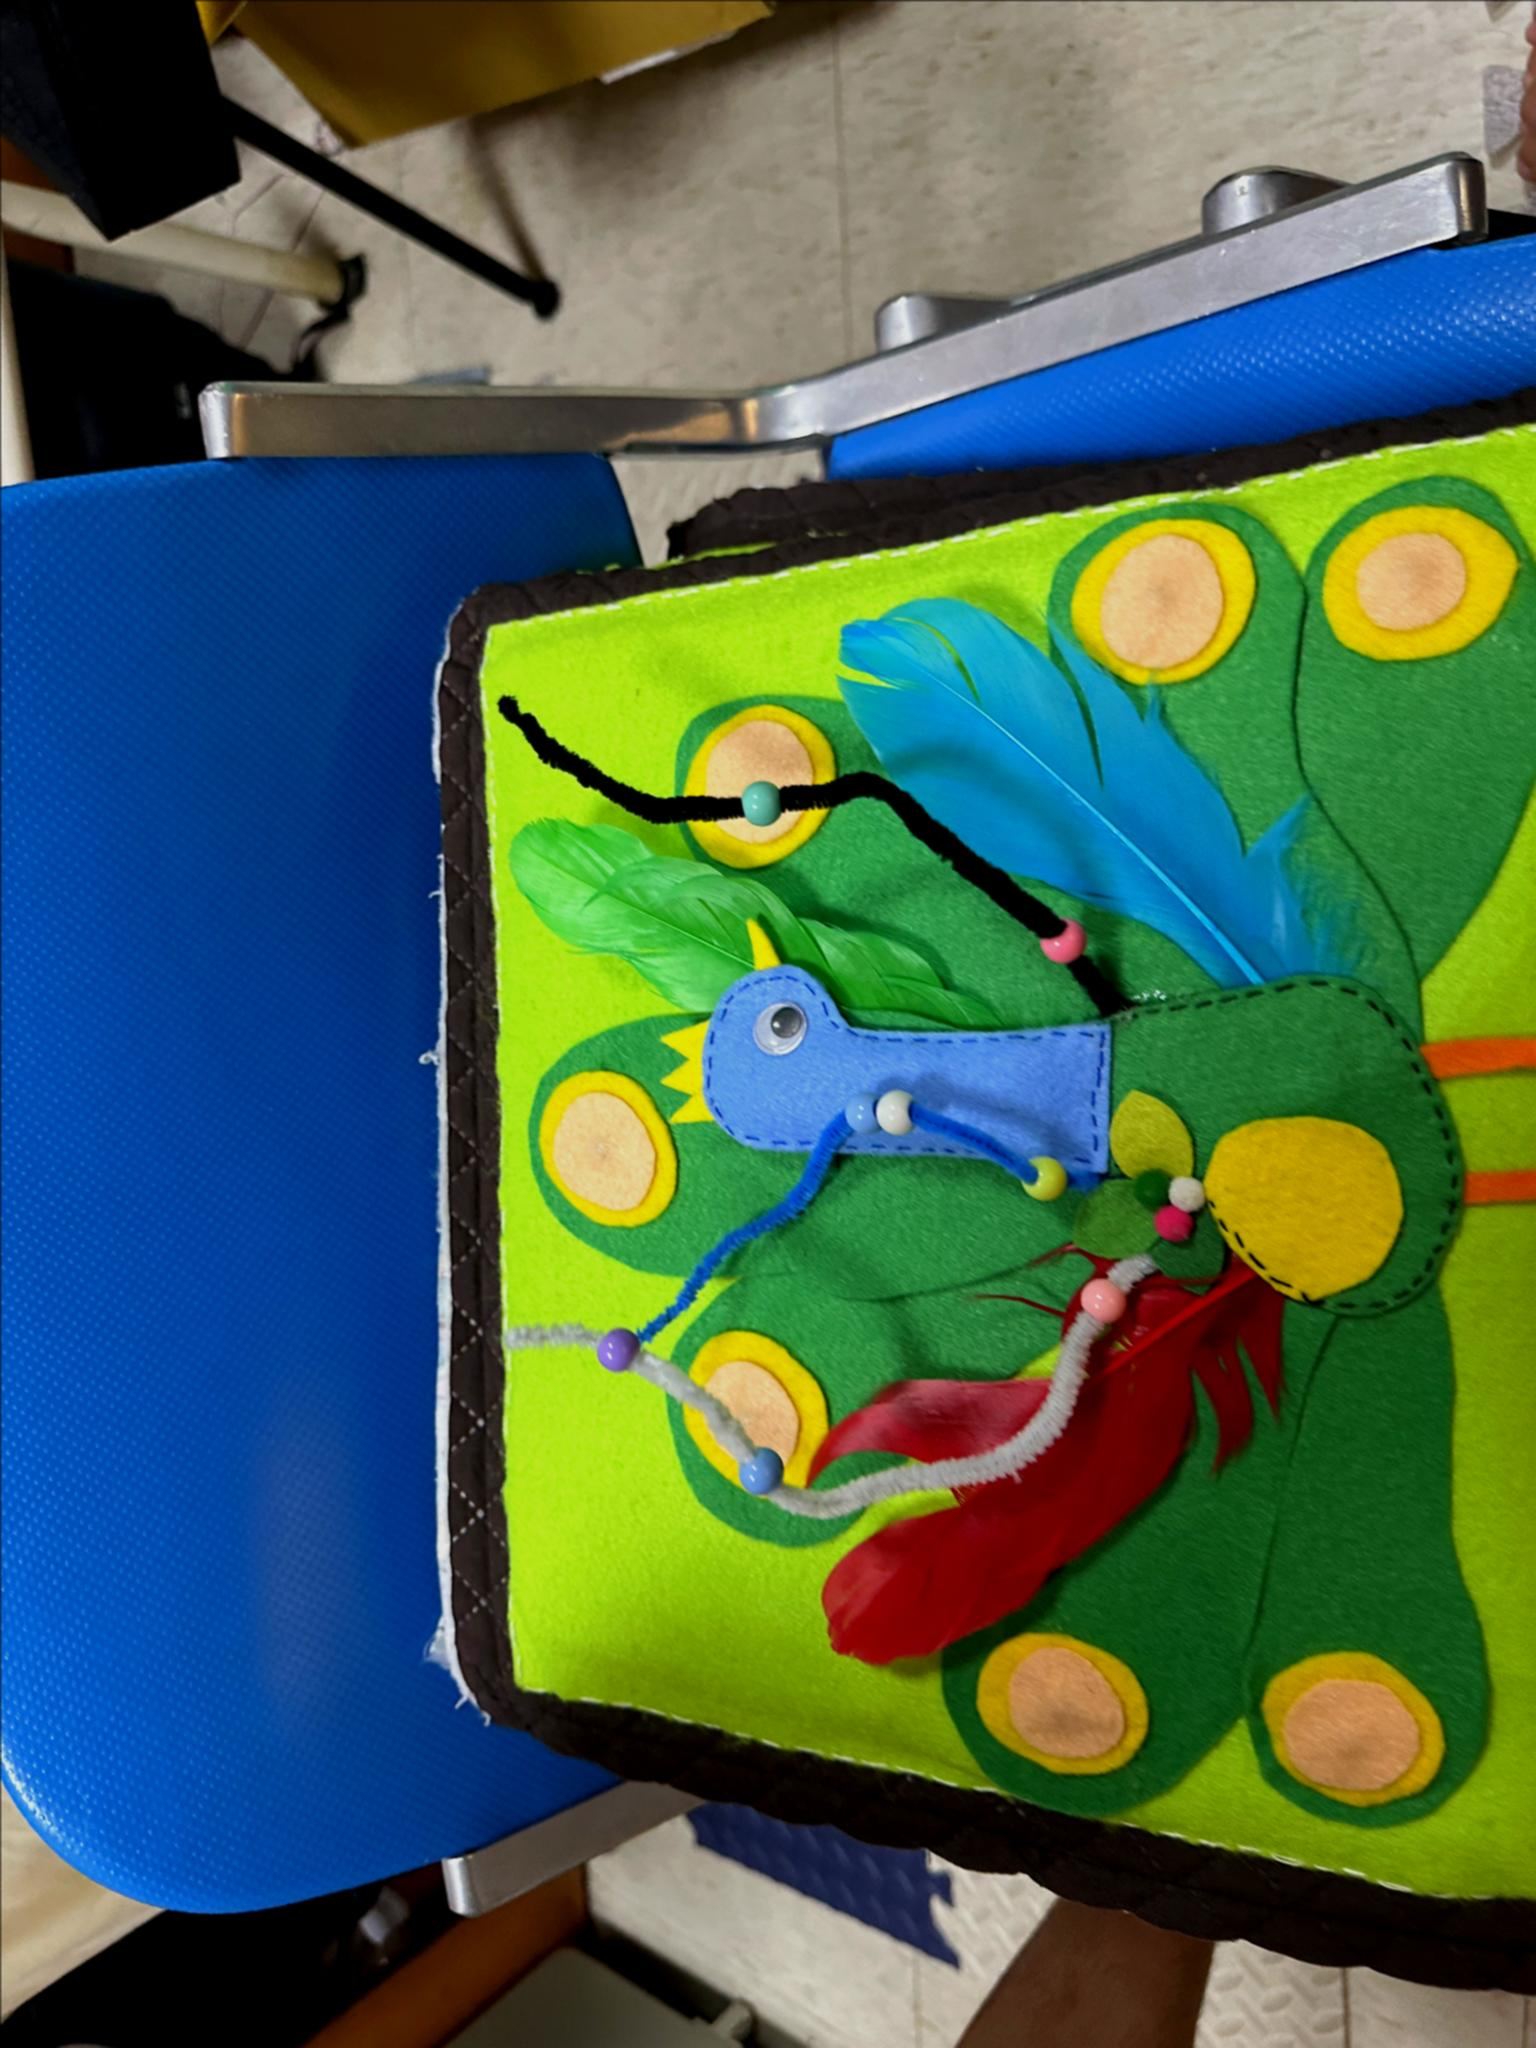bead: (589, 1313, 653, 1385), (1078, 1277, 1141, 1335), (737, 1450, 797, 1503), (1026, 1138, 1066, 1211), (736, 777, 786, 835), (870, 1084, 910, 1153), (1031, 916, 1091, 959), (834, 1092, 873, 1135)
